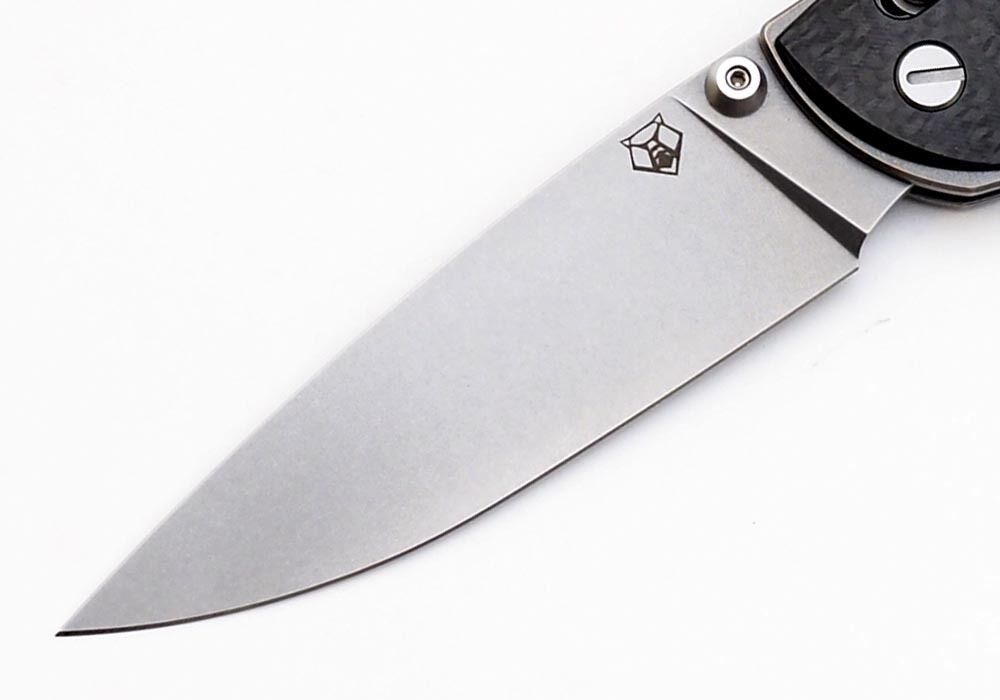knief: (38, 31, 961, 651)
